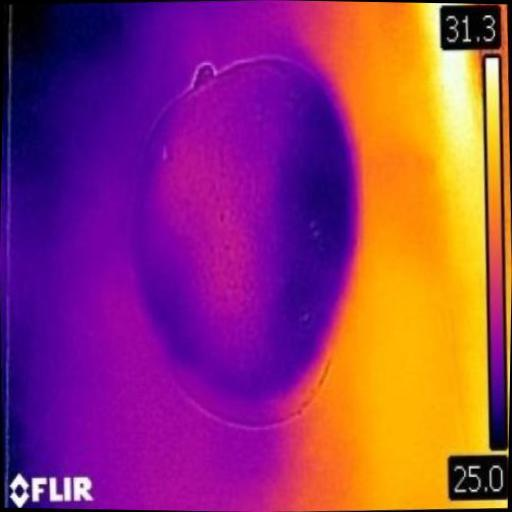alphanso: (138, 58, 354, 425)
